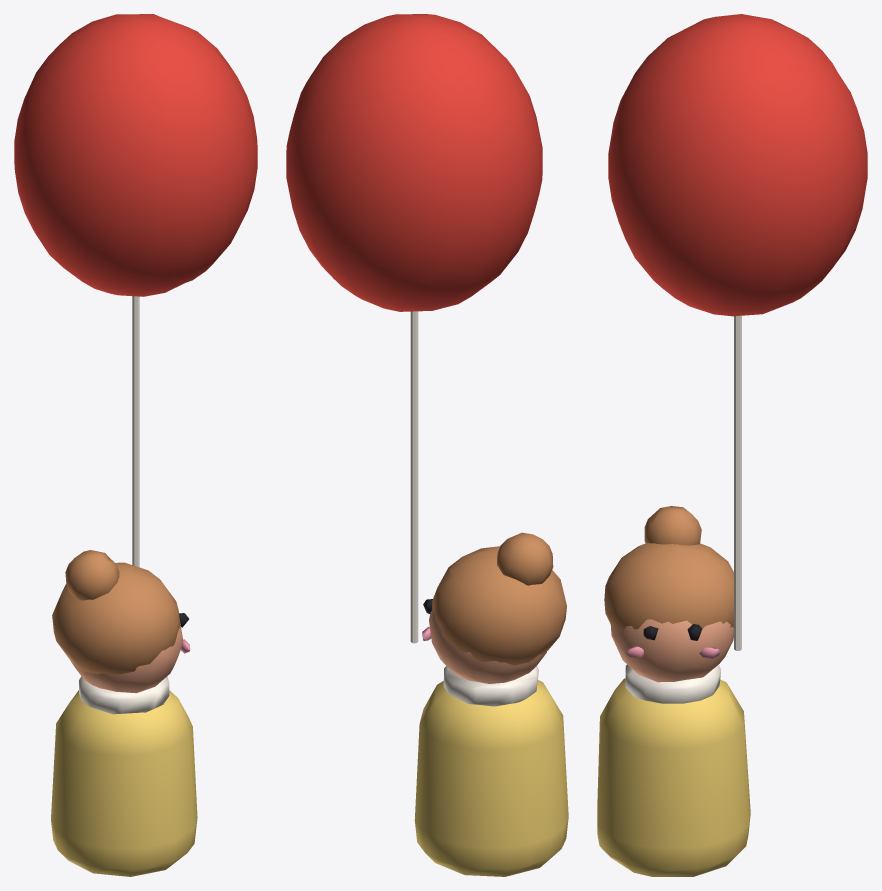
Rendered from peg_d.glb.
3 views of the same model, side by side, from view 1: azimuth 30°, elevation 25°; view 2: azimuth 150°, elevation 25°; view 3: azimuth 270°, elevation 25° (orthographic). The views are drawn at different scales.
Parts seen in each view (by area): view 1: peg_d; view 2: peg_d; view 3: peg_d.
Part boxes in pixels (x1,y1,x2,y2): peg_d: (14,14,257,876); peg_d: (286,14,568,876); peg_d: (597,14,867,876).
Bounding box in the file's own units: 0.3973 × 1.44 × 0.4156.
1 material, 1 textured.
